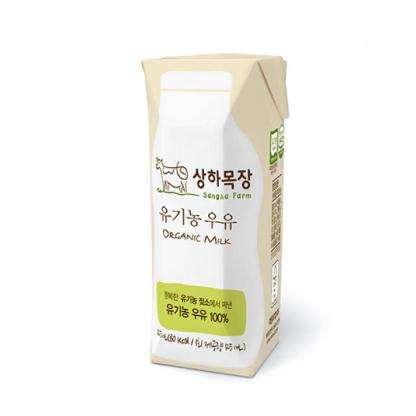tetra: (114, 26, 308, 397)
